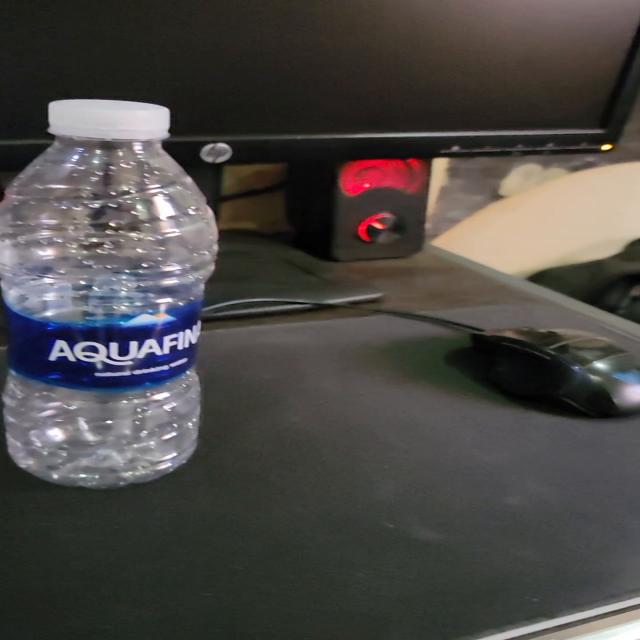Anorganik: (0, 94, 227, 497)
